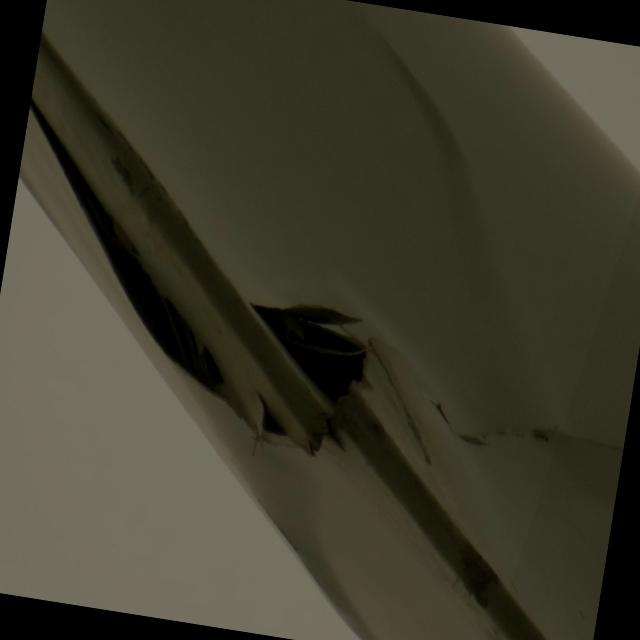crack: (44, 197, 640, 536)
